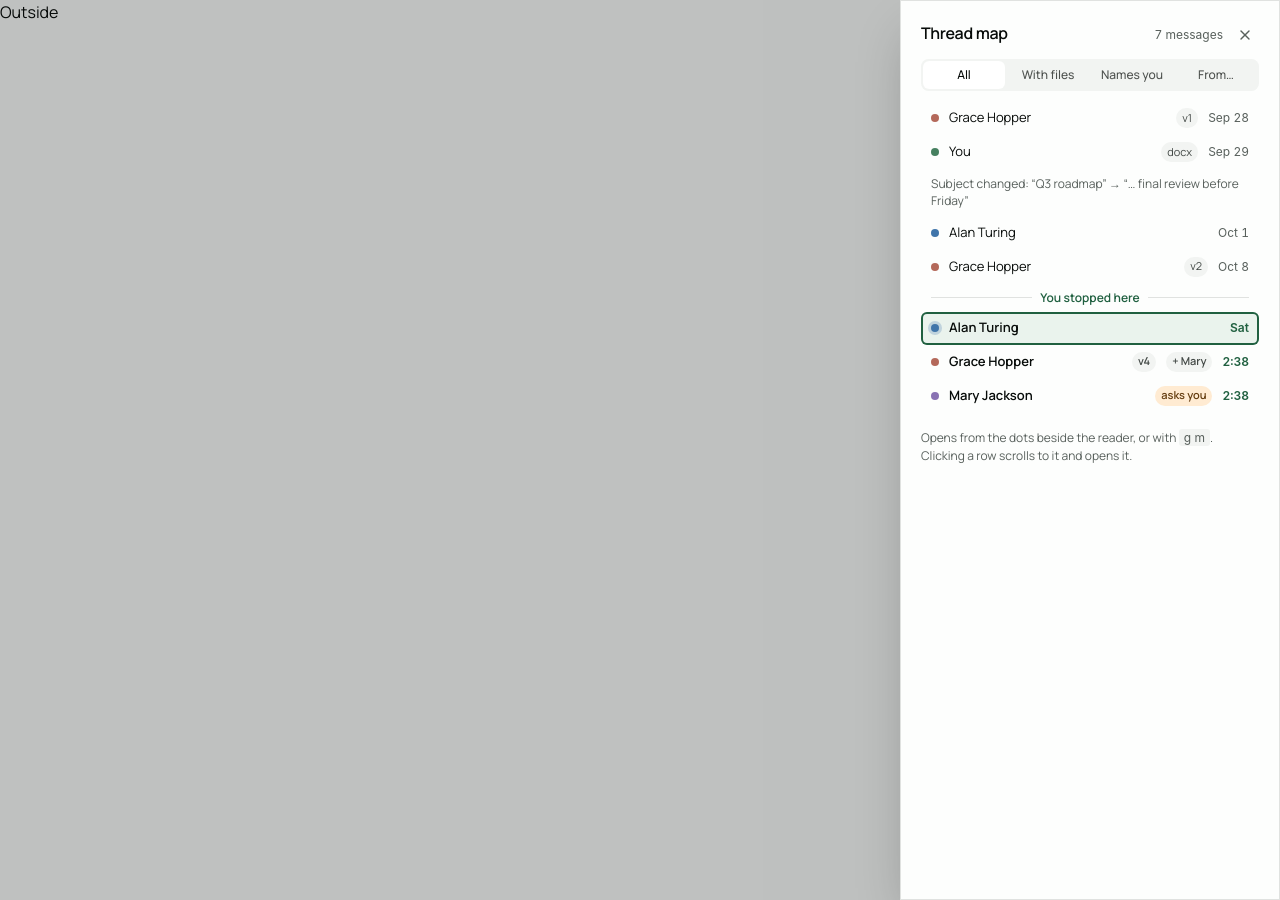
Scenario: ThreadMapPanel as a sheet below xl › picks one sender from the From… menu
Click the button "From…": (1216, 75) [1175,61,1257,89]
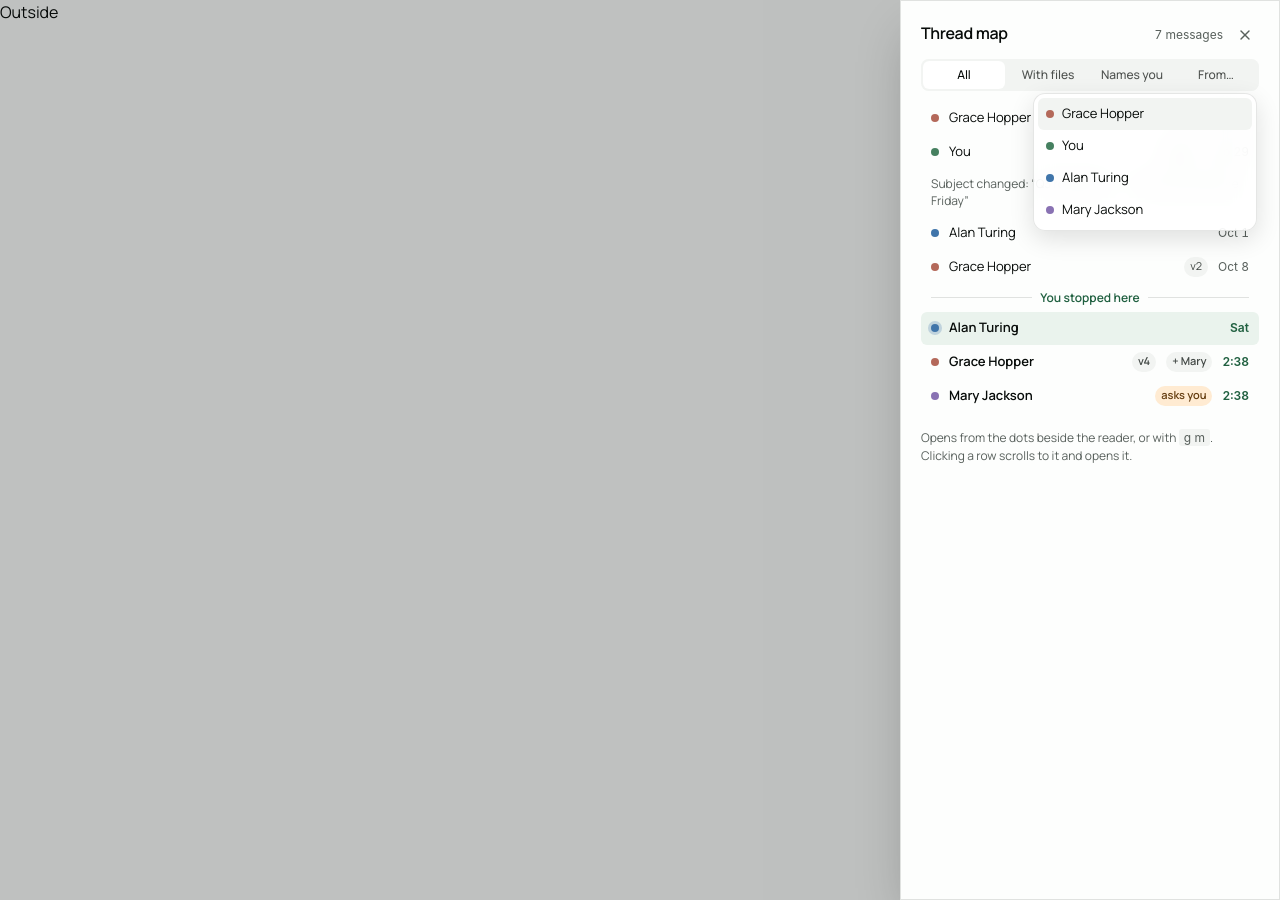
Click the menu item "Grace Hopper": (1145, 114) [1038,98,1252,130]
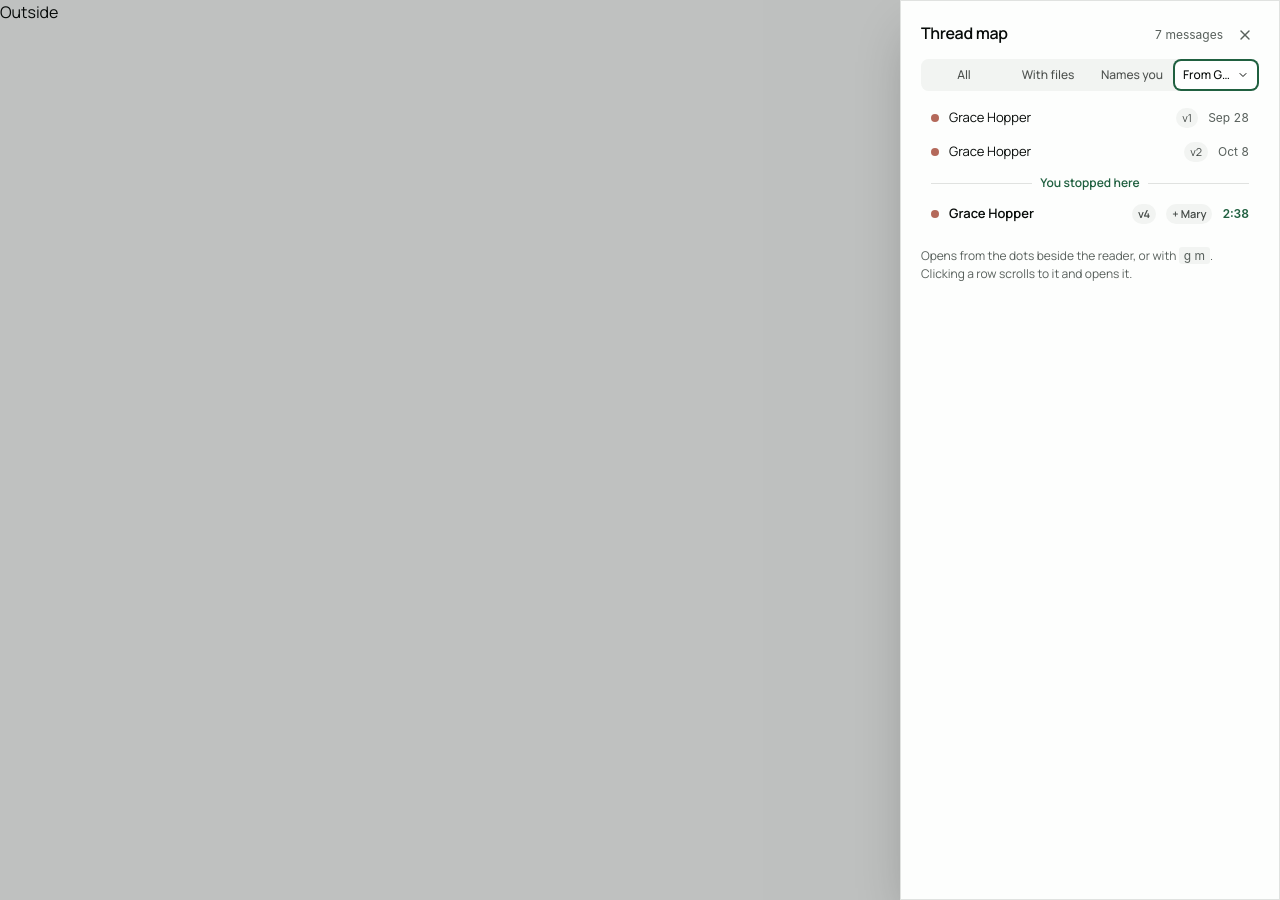
Check: the menu is gone
# Reopened, the current sender is checked and focused.
Click the button "From Grace": (1216, 75) [1175,61,1257,89]
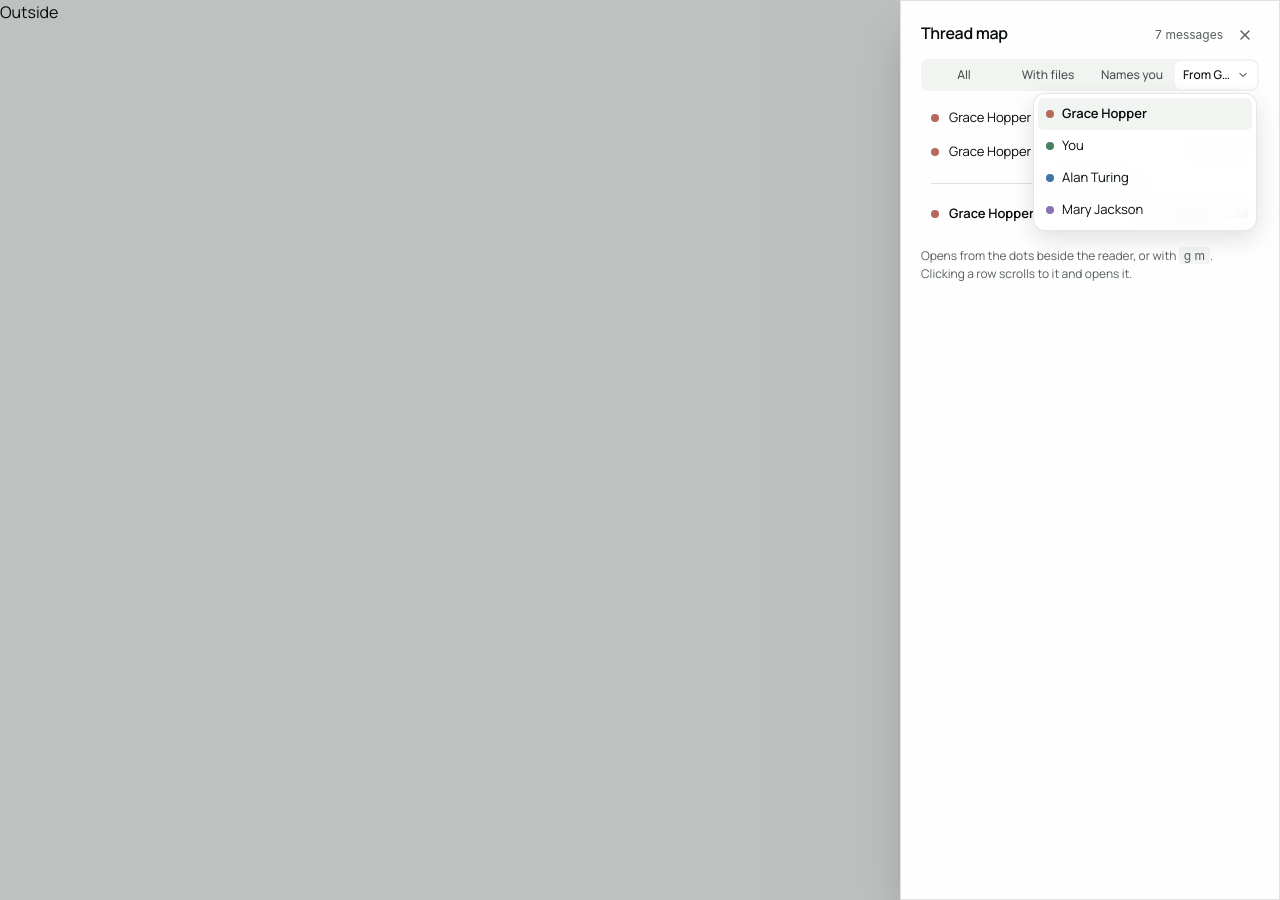
Check: the menu item "Grace Hopper" is checked, box [1038,98,1252,130]
Click the menu item "You": (1145, 146) [1038,130,1252,162]
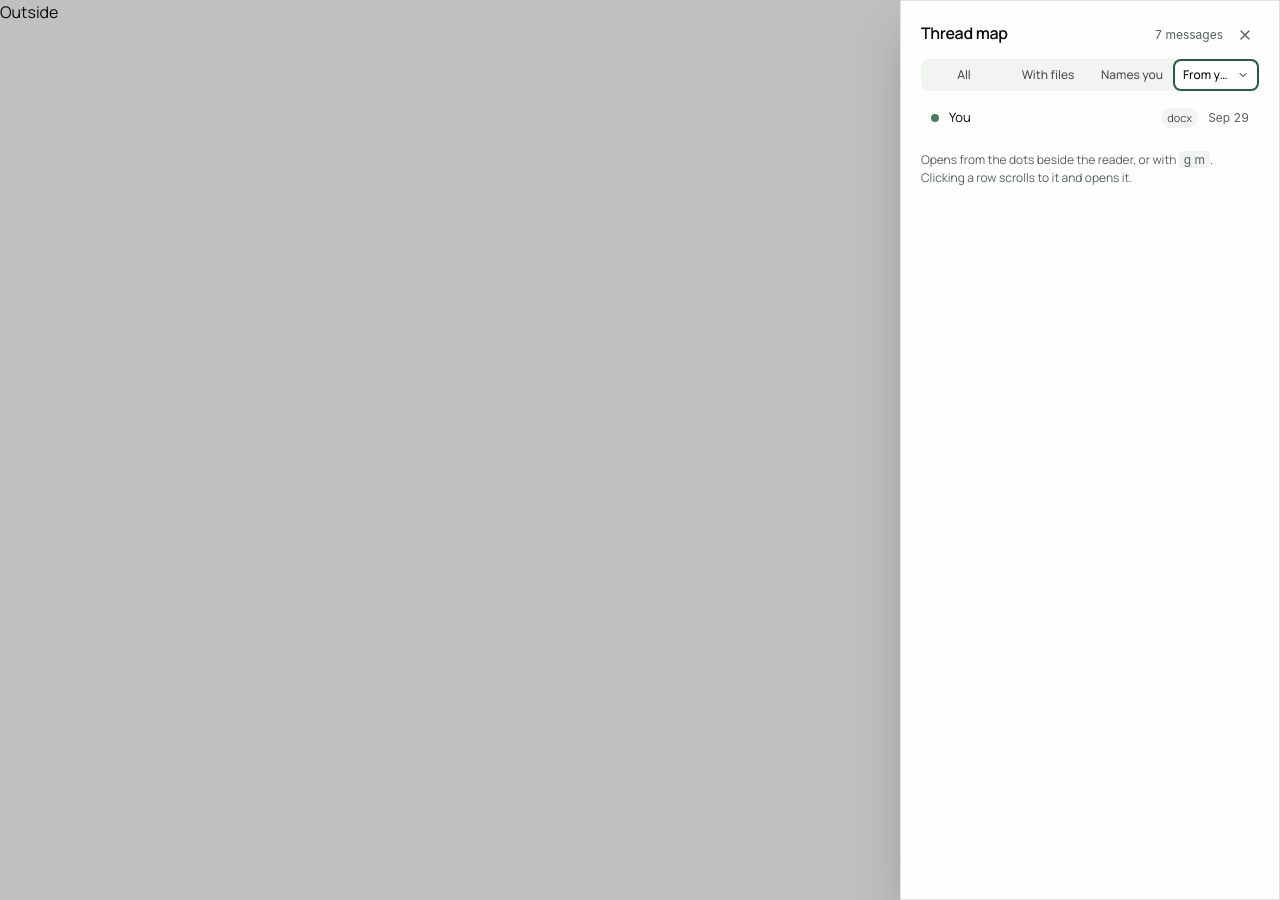
Check: the button "From you" is shown, box [1175,61,1257,89]
